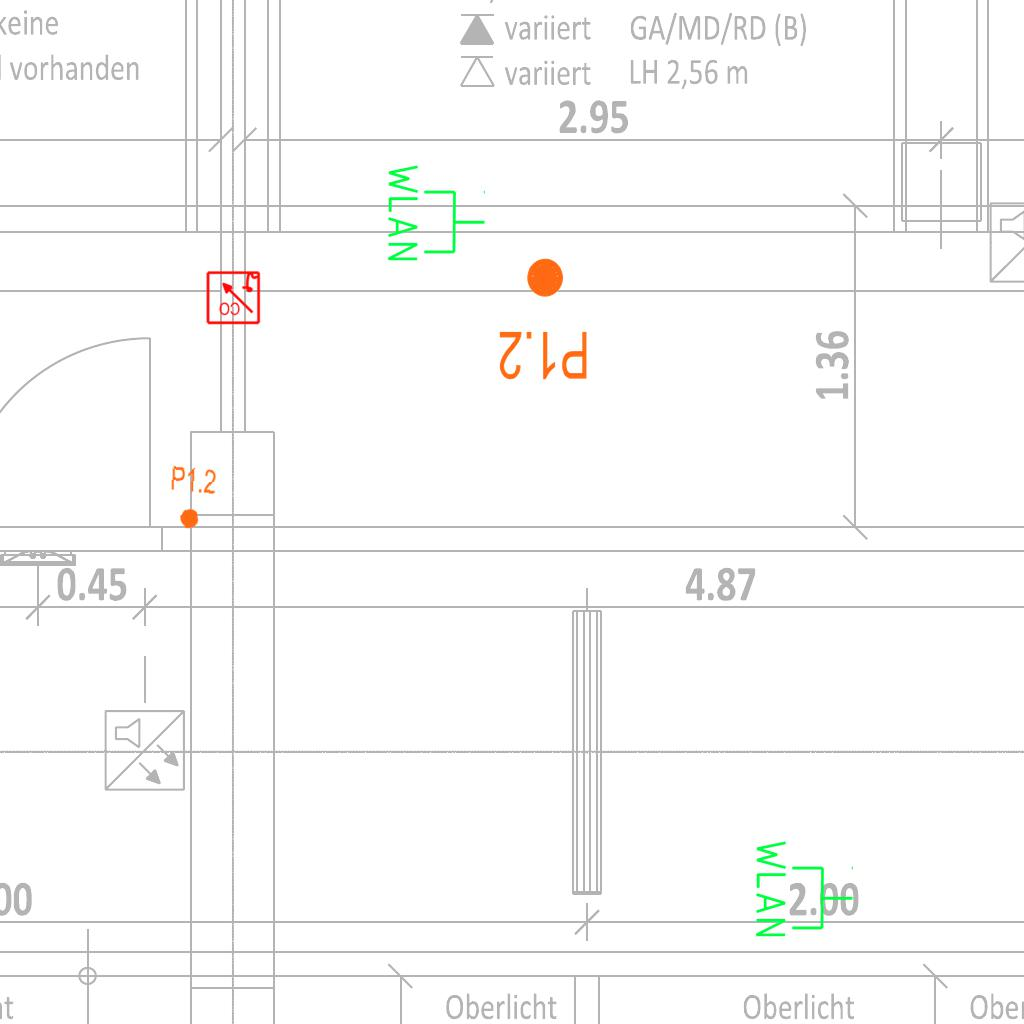Downlight_LED_Einbauleuchten_Flur: (497, 255, 590, 383), (166, 464, 218, 532)
ROA_Rauchmelder_optisch_mit_Signalgeber_(Sockelsirene): (205, 269, 261, 325)
WLAN: (752, 836, 856, 941), (384, 160, 488, 265)
